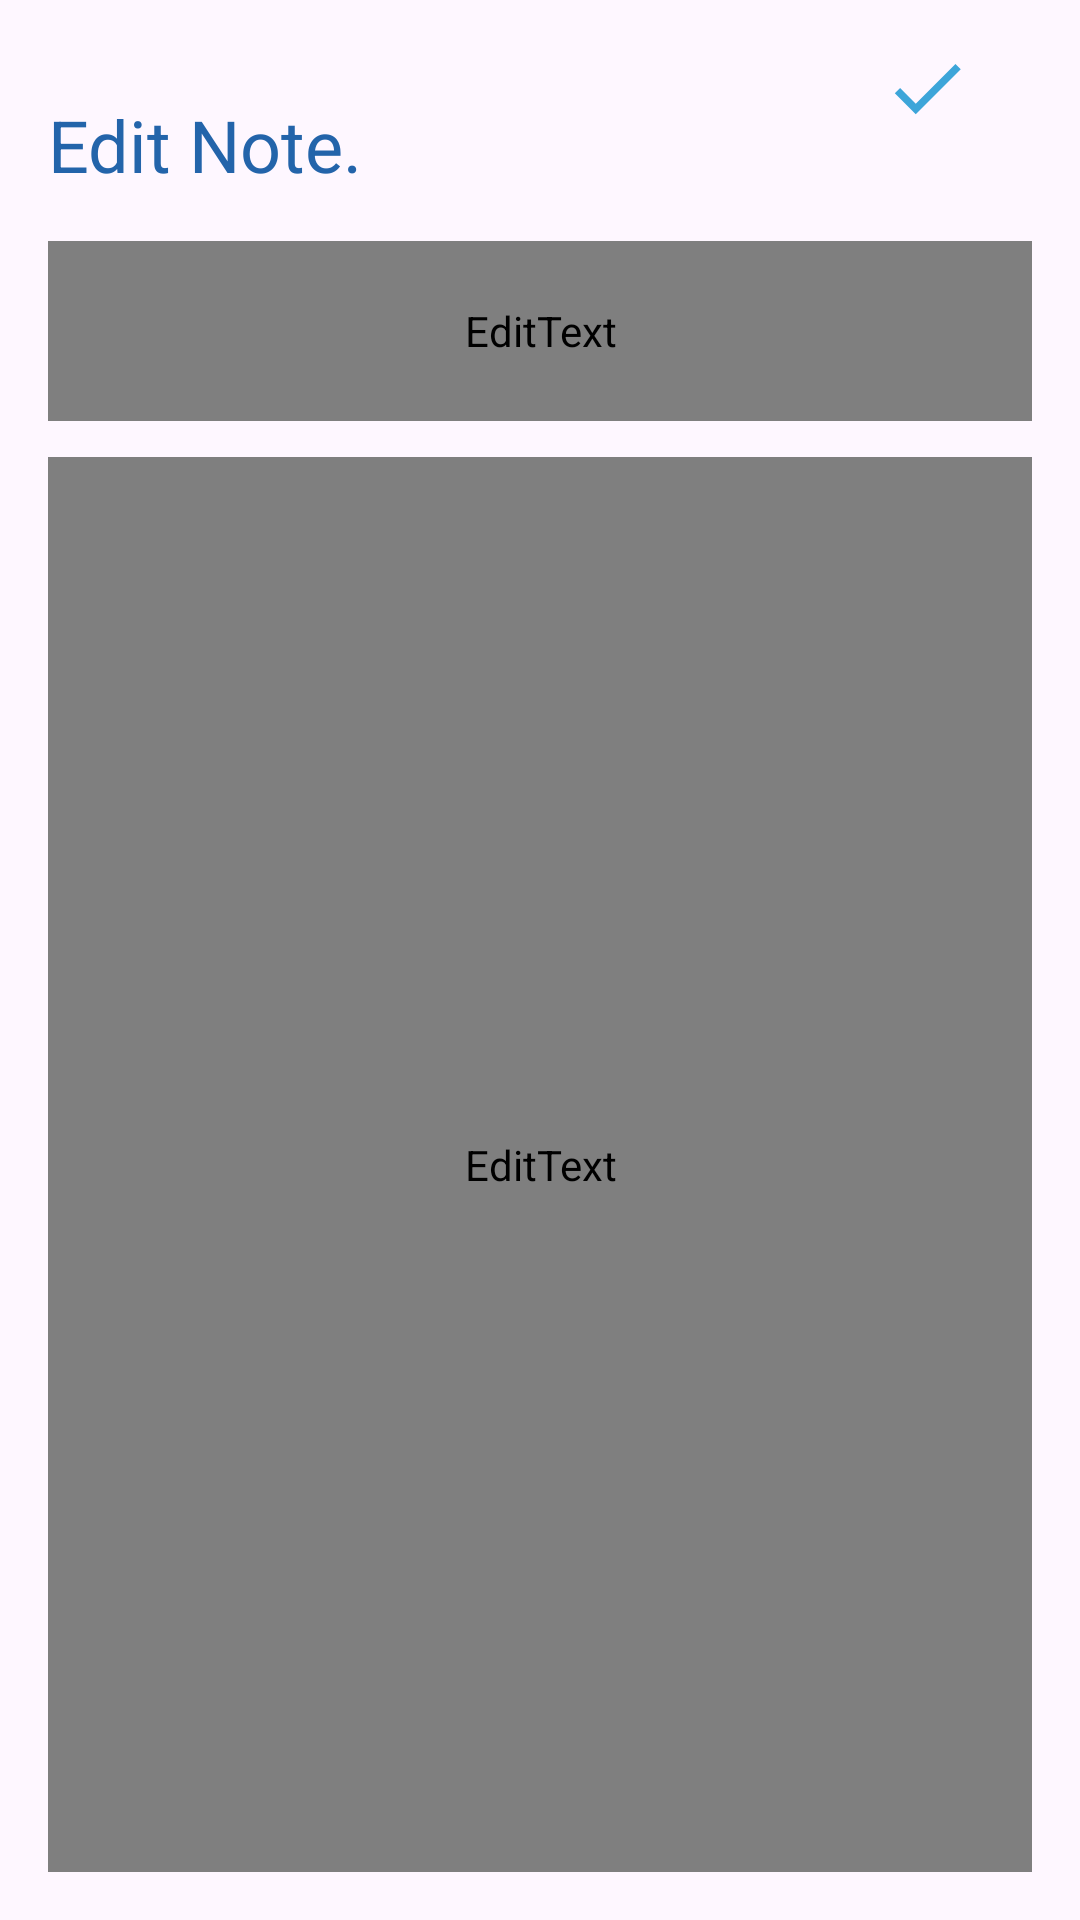

Where icons sit on this 1080×1920 app screen, as [left=x1, top=y1, right=x2, bottom=y2]:
done: [left=895, top=64, right=961, bottom=114]
